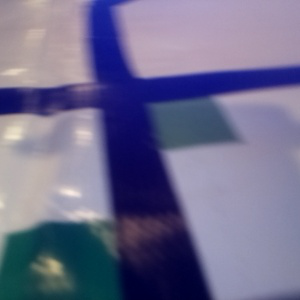bottom_right: (106, 77, 238, 149)
